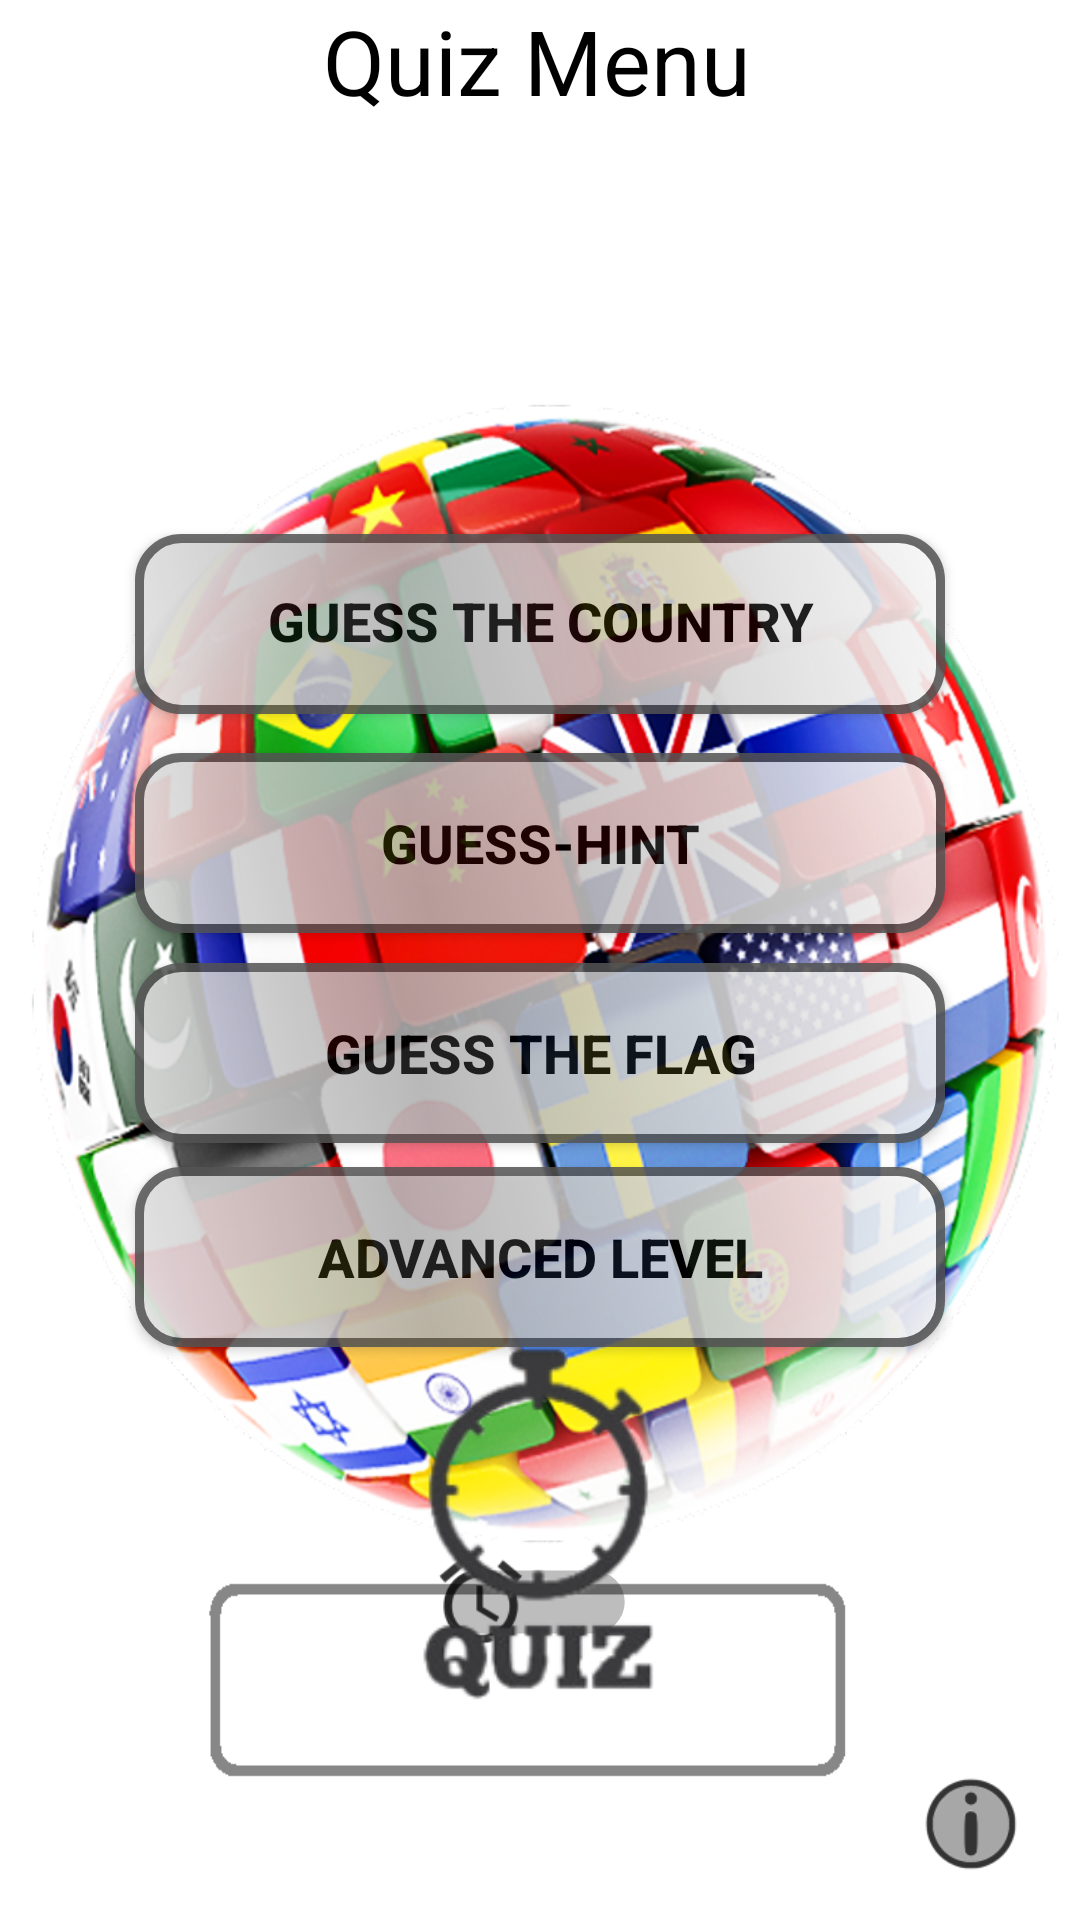

Locate icon controls on the screen. Image size 1080 × 1920, boxes as BBox(x1, y1, x2, y2).
information thumb: BBox(925, 1778, 1016, 1869)
